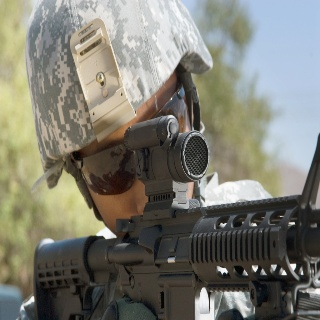rifle: (33, 115, 319, 320)
